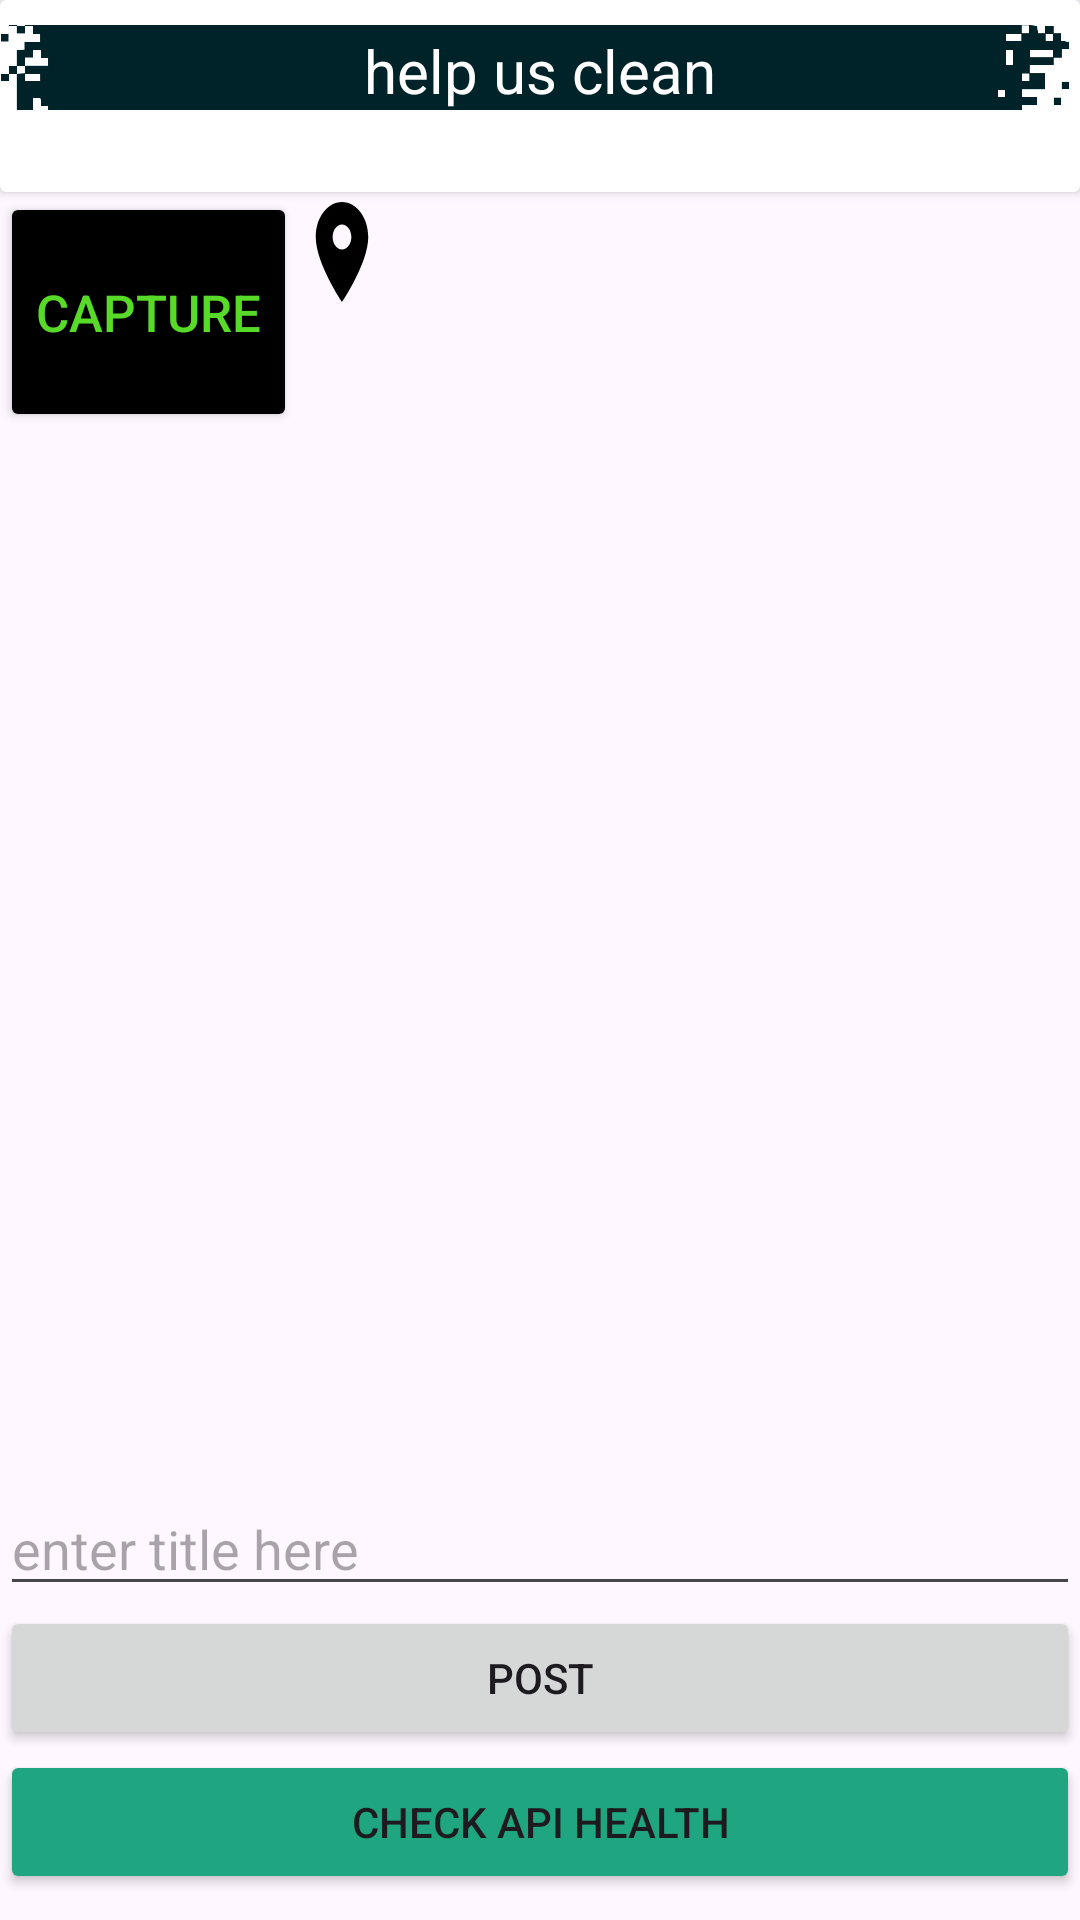

Point at icon controls on the screen. Image size 1080w x 1920h, points as (x,y).
location on: (342,252)
